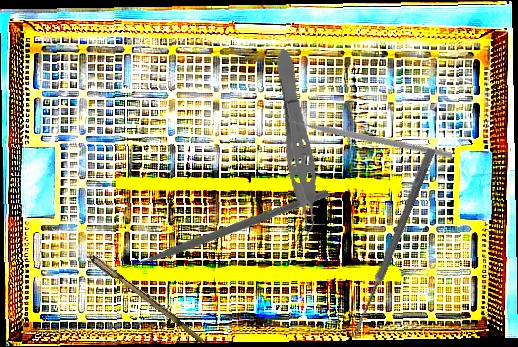Chopper: (108, 110, 331, 342), (282, 57, 454, 208)
Surgical Spoon: (49, 225, 207, 344), (349, 147, 436, 341)
Tissue Forceps: (267, 45, 326, 248)
